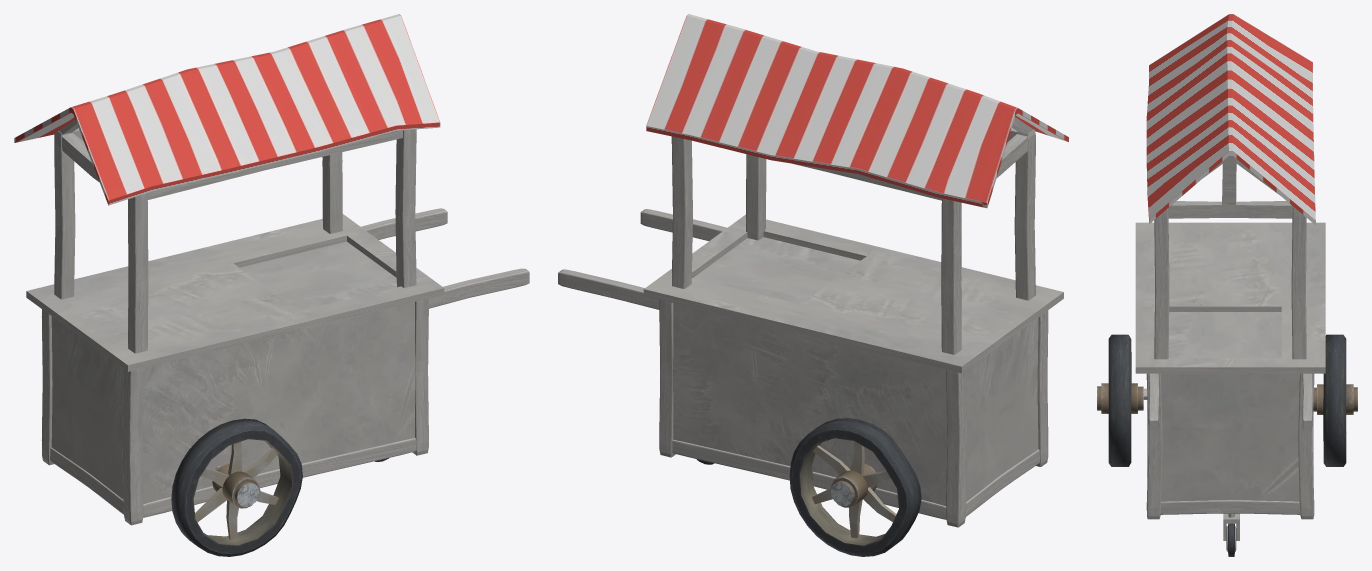
File: vn_hutieu_cart.glb
3 renders of one model, left to right at view 1: azimuth 30°, elevation 25°; view 2: azimuth 150°, elevation 25°; view 3: azimuth 270°, elevation 25°, orthographic. The views are drawn at different scales.
Visible parts, largest first — view 1: Cube_Metal_0, Plane_Roof_0, Cube.002_Collum1_0, Cube.001_Collum2_0, Cylinder.002_VoBanhXe_0, Cylinder.002_CamXe_0, Cylinder.002_Loixe_0; view 2: Cube_Metal_0, Plane_Roof_0, Cube.002_Collum1_0, Cube.001_Collum2_0, Cylinder.002_VoBanhXe_0, Cylinder.002_CamXe_0, Cylinder.002_Loixe_0; view 3: Cube_Metal_0, Plane_Roof_0, Cube.002_Collum1_0, Cylinder.002_VoBanhXe_0, Cube.001_Collum2_0, Cylinder.002_Loixe_0.
Part boxes in pixels (x1,y1,x2,y2): Cube_Metal_0: (26,214,444,503); Plane_Roof_0: (14,14,440,205); Cube.002_Collum1_0: (54,128,529,353); Cube.001_Collum2_0: (41,298,428,525); Cylinder.002_VoBanhXe_0: (171,418,388,556); Cylinder.002_CamXe_0: (195,442,278,539); Cylinder.002_Loixe_0: (212,464,260,508); Cube_Metal_0: (643,214,1063,505); Plane_Roof_0: (646,14,1068,208); Cube.002_Collum1_0: (558,128,1035,354); Cube.001_Collum2_0: (659,299,1048,527); Cylinder.002_VoBanhXe_0: (696,418,921,556); Cylinder.002_CamXe_0: (812,441,896,538); Cylinder.002_Loixe_0: (830,463,877,507); Cube_Metal_0: (1135,222,1325,501); Plane_Roof_0: (1146,14,1315,225); Cube.002_Collum1_0: (1149,156,1312,431); Cylinder.002_VoBanhXe_0: (1108,334,1346,556); Cube.001_Collum2_0: (1146,373,1314,551); Cylinder.002_Loixe_0: (1097,383,1357,414).
Size of the model in its own units: 2.13 by 2.1 by 1.2.
6 materials, 6 textured.
